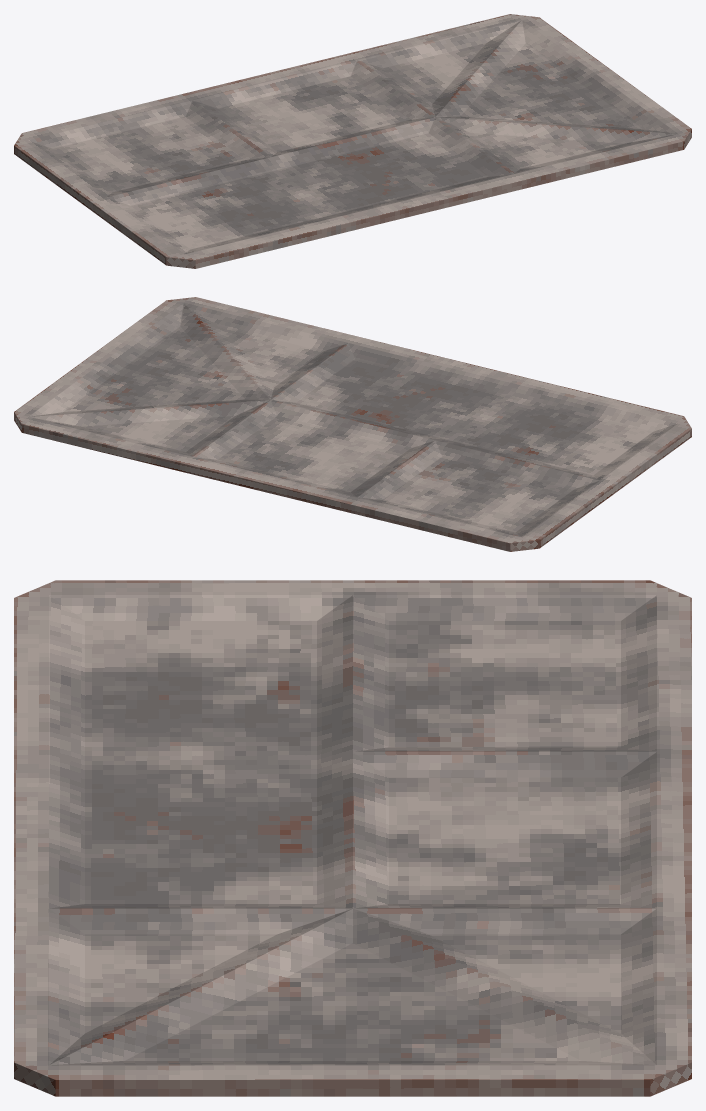
The model's file is tray.glb.
3 renders of one model, top to bottom at view 1: azimuth 30°, elevation 25°; view 2: azimuth 150°, elevation 25°; view 3: azimuth 270°, elevation 25°, orthographic. The views are drawn at different scales.
Visible parts, largest first — view 1: tray; view 2: tray; view 3: tray.
Boxes of the visible parts, bbox=[...] form: tray: bbox=[14, 14, 691, 268]; tray: bbox=[14, 297, 691, 551]; tray: bbox=[14, 580, 691, 1096].
Bounding box in the file's own units: 1.44 × 0.0323 × 0.8244.
1 material, 1 textured.
